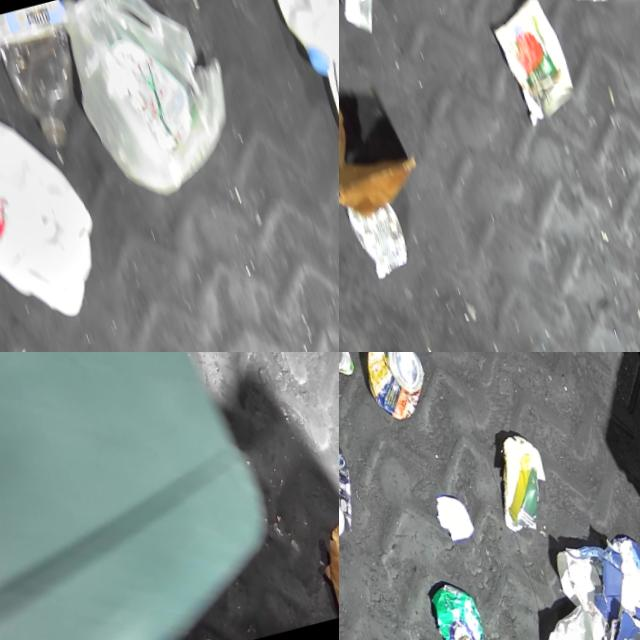can: (475, 0, 583, 122), (339, 186, 410, 292), (349, 352, 433, 424), (415, 576, 494, 640), (339, 404, 363, 541), (339, 0, 398, 44)
milk_jug: (0, 90, 117, 336), (260, 0, 339, 82)
plastic_bottle: (0, 0, 102, 154)
